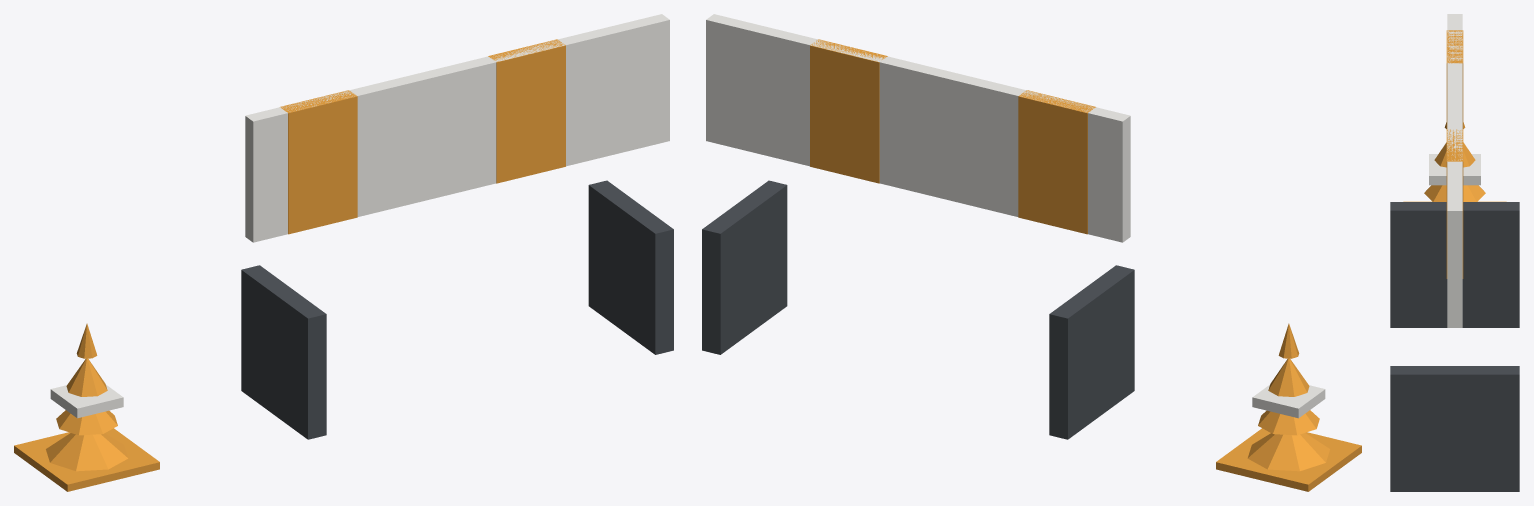
The model's file is prop.construction-zone.glb.
3 views of the same model, side by side, from view 1: azimuth 30°, elevation 25°; view 2: azimuth 150°, elevation 25°; view 3: azimuth 270°, elevation 25° (orthographic). The views are drawn at different scales.
Parts seen in each view (by area): view 1: prop.construction-zone; view 2: prop.construction-zone; view 3: prop.construction-zone.
Part boxes in pixels (box(x1,y1,x2,y2)): prop.construction-zone: box(14, 14, 673, 491); prop.construction-zone: box(702, 14, 1361, 491); prop.construction-zone: box(1390, 14, 1519, 491).
Size of the model in its own units: 2.7 by 1.25 by 0.5.
